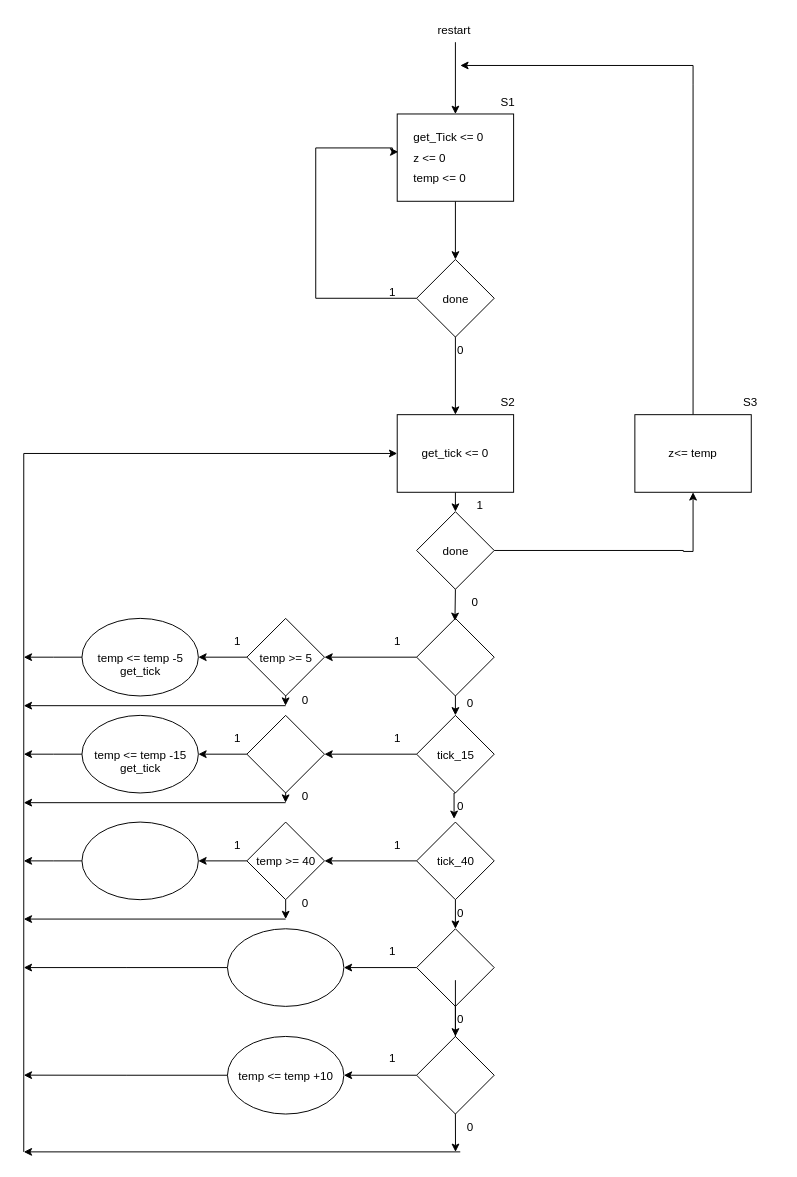
This 797x1177 diagram has some shape labels left out. The shapes that lost their labels are listed below. From the top down, each one's centre as x and y in pixels, then its label:
At [455,656]: "tick_5".
At [285,753]: "temp >= 15".
At [139,860]: "temp <= temp +40 get_tick".
At [285,967]: "temp <= temp +5".
At [455,967]: "coin_5".
At [455,1074]: "coin_10".
